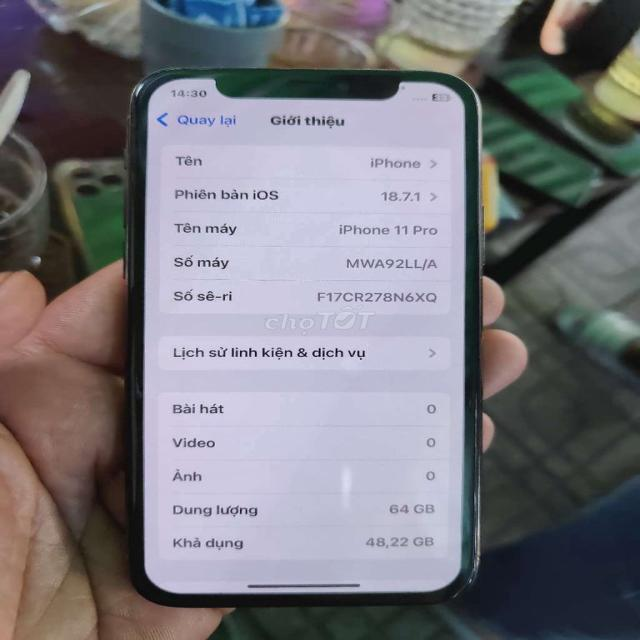scratch: (145, 59, 483, 77), (448, 474, 484, 603)
